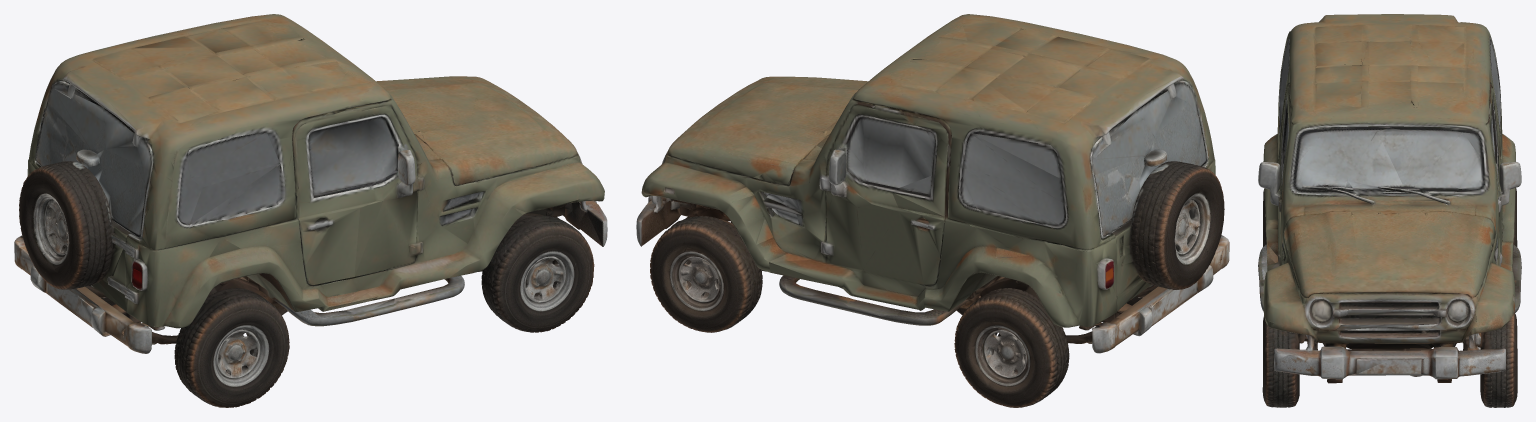
The model's file is trilheiro-abandonado__01a16c1c.glb.
The picture shows the model from 3 angles, left to right: view 1: azimuth 30°, elevation 25°; view 2: azimuth 150°, elevation 25°; view 3: azimuth 270°, elevation 25°; orthographic projection. The views are drawn at different scales.
Visible parts, largest first — view 1: trilheiro-abandonado; view 2: trilheiro-abandonado; view 3: trilheiro-abandonado.
Part boxes in pixels (box(x1,y1,x2,y2)): trilheiro-abandonado: box(14, 14, 607, 407); trilheiro-abandonado: box(636, 14, 1229, 407); trilheiro-abandonado: box(1258, 14, 1521, 407).
Size of the model in its own units: 3.95 by 2.04 by 2.06.
1 material, 1 textured.
